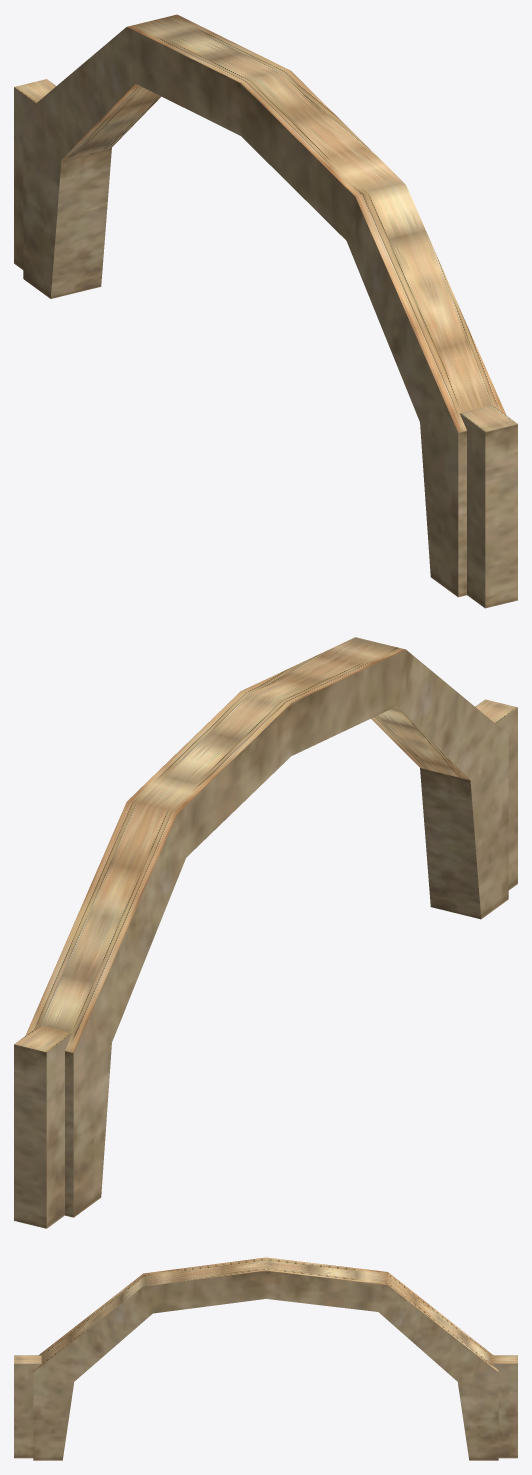
File: thm_tato_imprv_archway_wide_s01_l2.fbx
3 views of the same model, one above another, from view 1: azimuth 30°, elevation 25°; view 2: azimuth 150°, elevation 25°; view 3: azimuth 270°, elevation 25° (orthographic). The views are drawn at different scales.
Visible parts, largest first — view 1: mesh_node; view 2: mesh_node; view 3: mesh_node.
Boxes of the visible parts, left/top/right/bottom form: mesh_node: left=14, top=14, right=517, bottom=608; mesh_node: left=14, top=637, right=517, bottom=1228; mesh_node: left=14, top=1257, right=517, bottom=1460.
Bounding box in the file's own units: 0.9899 × 6.65 × 16.
